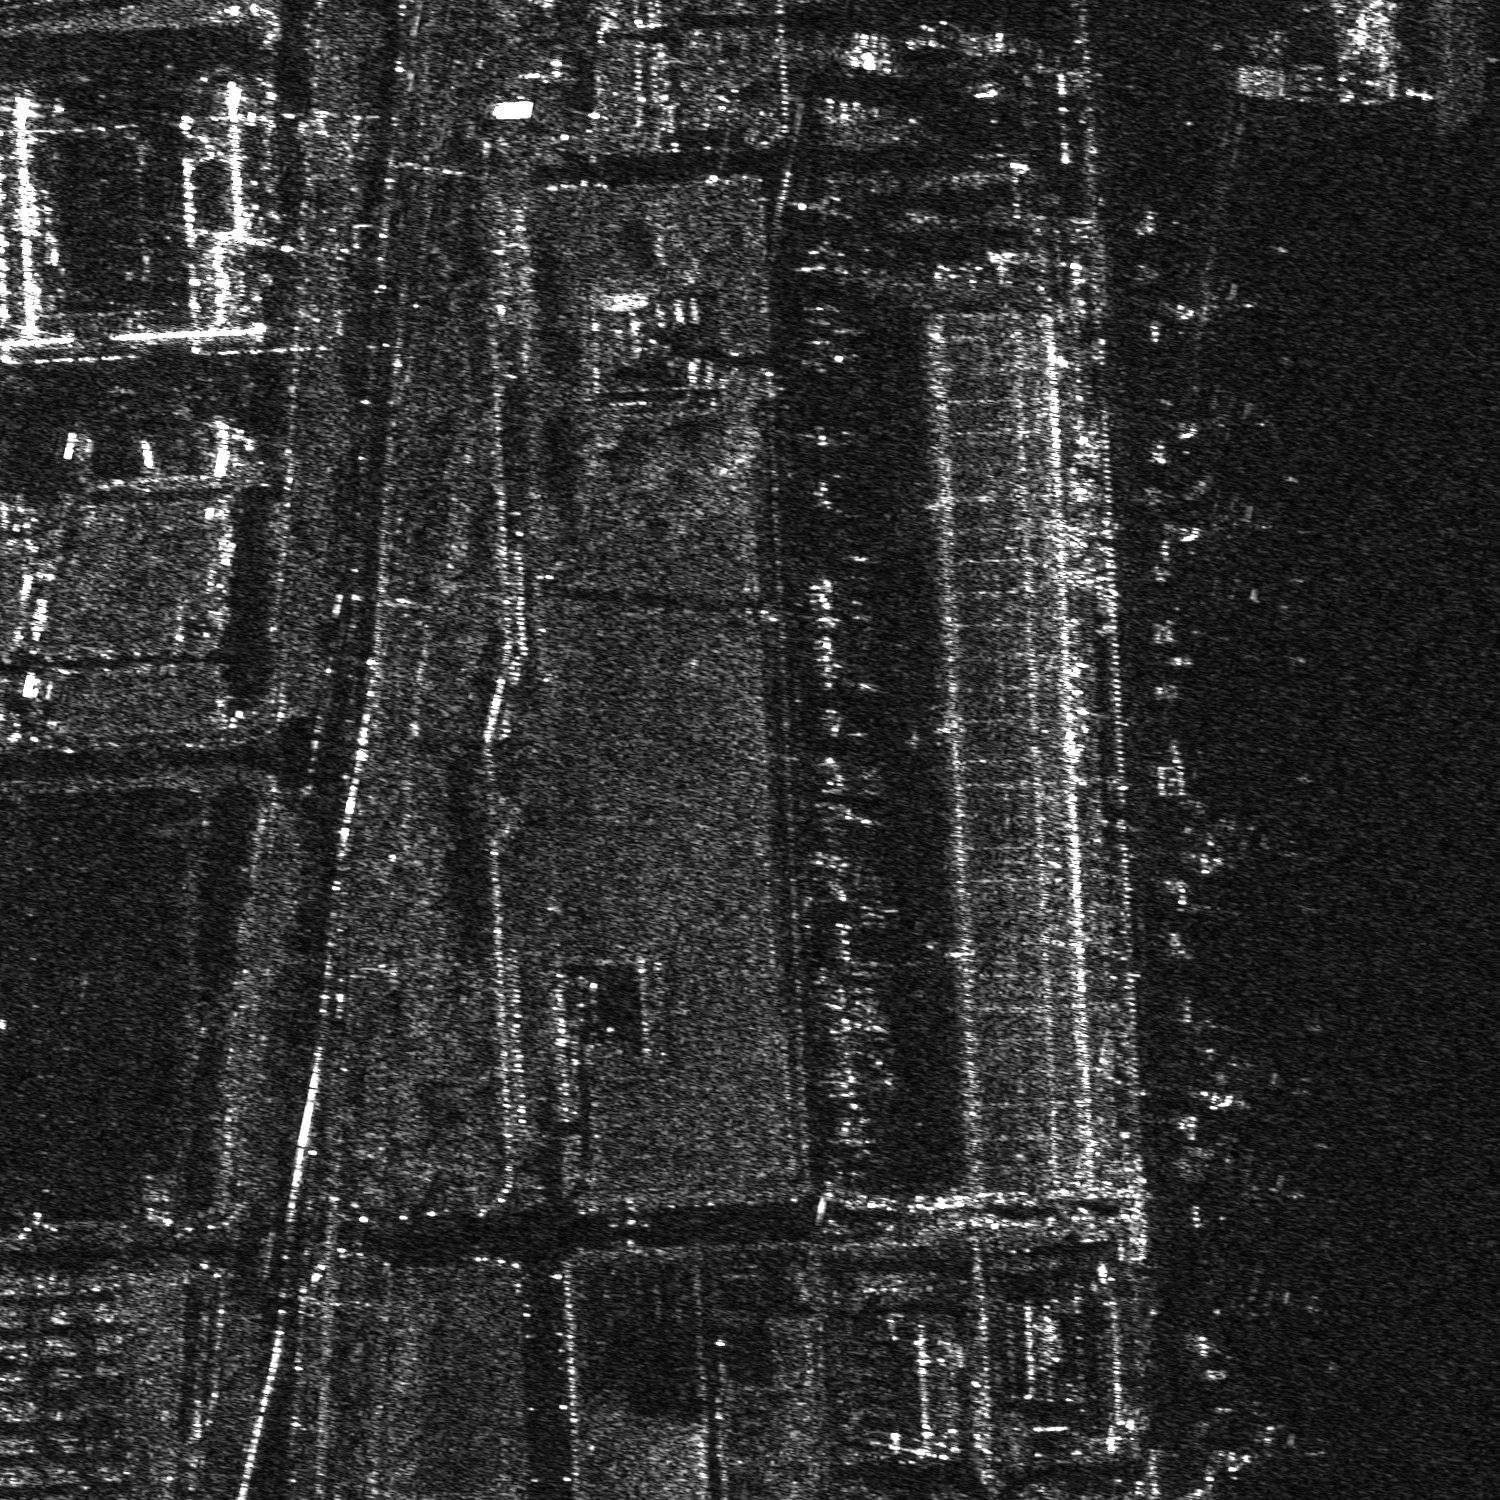A220: (1207, 1420, 1328, 1492)
A320/321: (1202, 1257, 1330, 1360), (1157, 493, 1279, 565), (1172, 386, 1273, 451)
Boeing737: (1163, 276, 1260, 349)
other: (1223, 1165, 1310, 1231)
